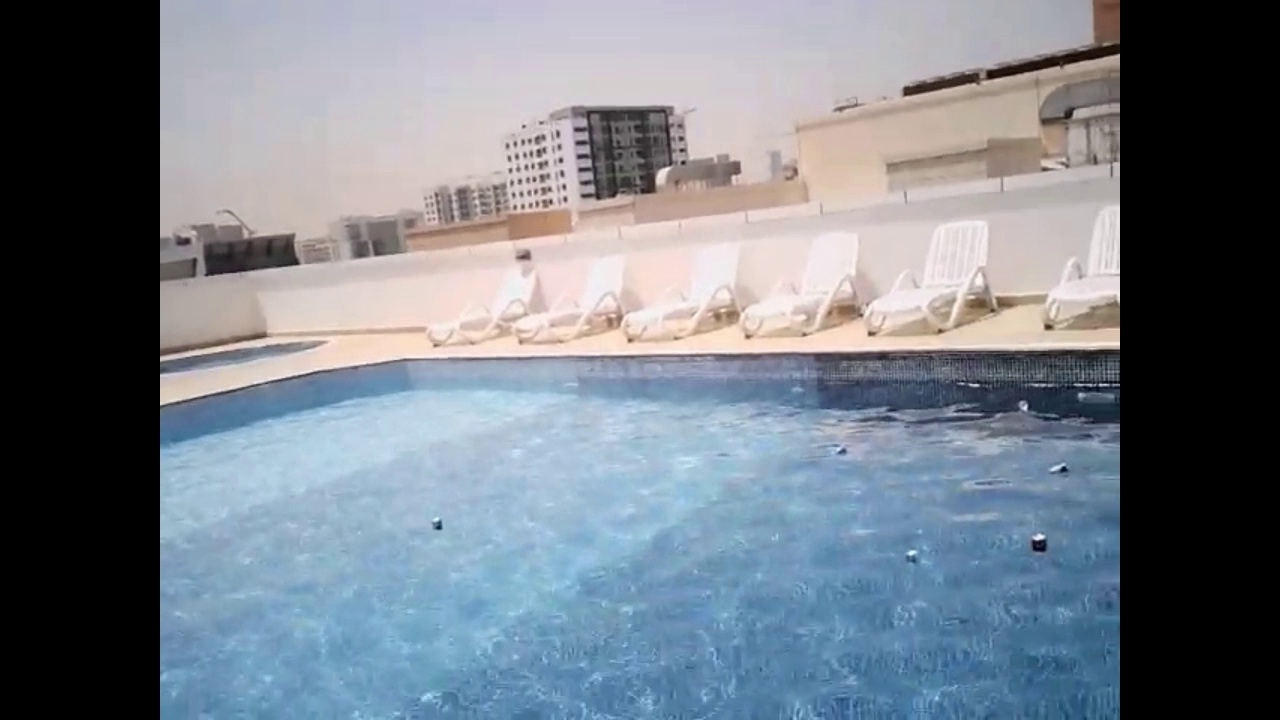debris: (1026, 525, 1050, 563), (1046, 459, 1076, 482), (900, 544, 923, 570), (829, 442, 854, 459), (427, 514, 445, 532), (1016, 399, 1031, 419)
